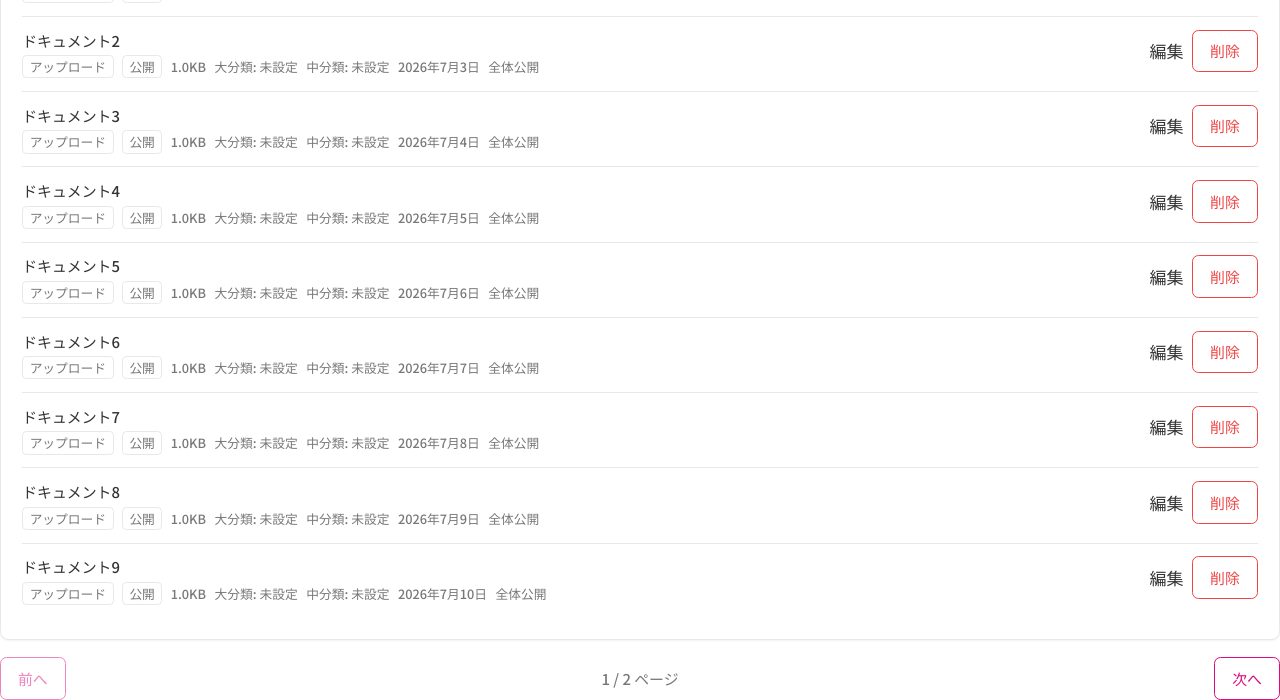
Test: DocumentManagementList › ページネーションで11件を超える一覧は10件ずつ表示される
(page scrolled)
Expected: the text "ドキュメント10" is not shown
Click the button "次へ" at [1247, 678], box [1214,657,1279,699]
(page scrolled)
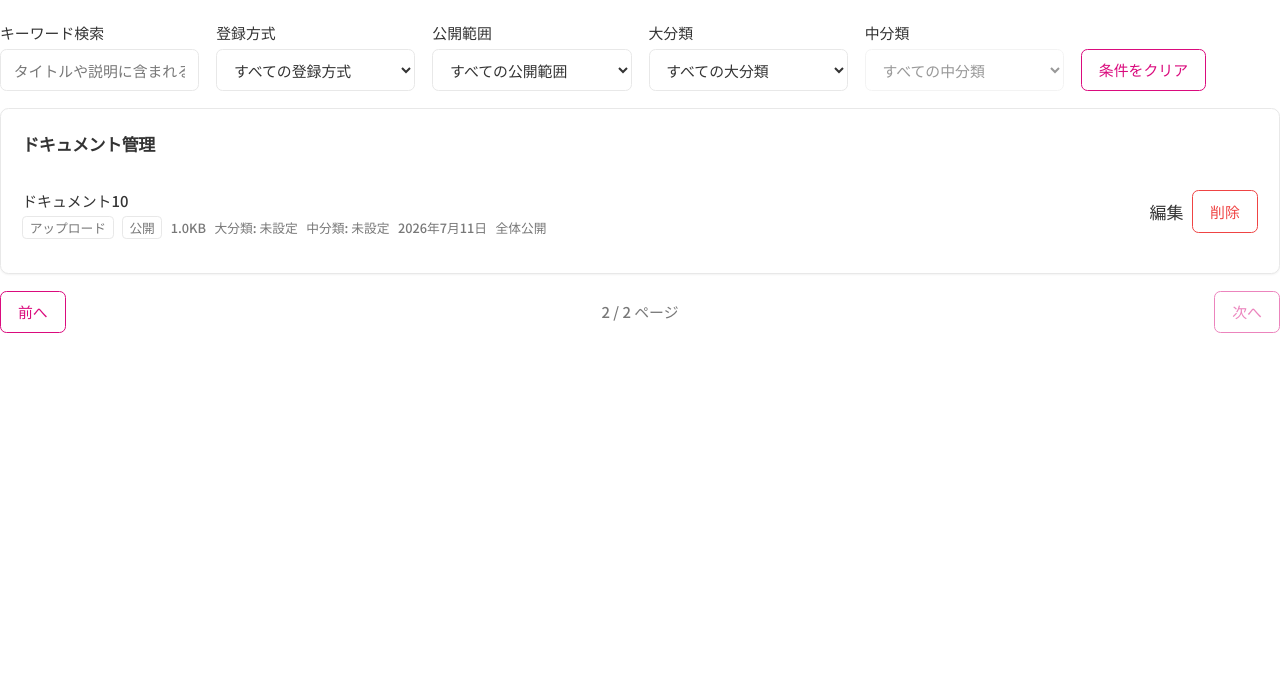
Result: the text "ドキュメント10" is shown at [22,190,128,211]
